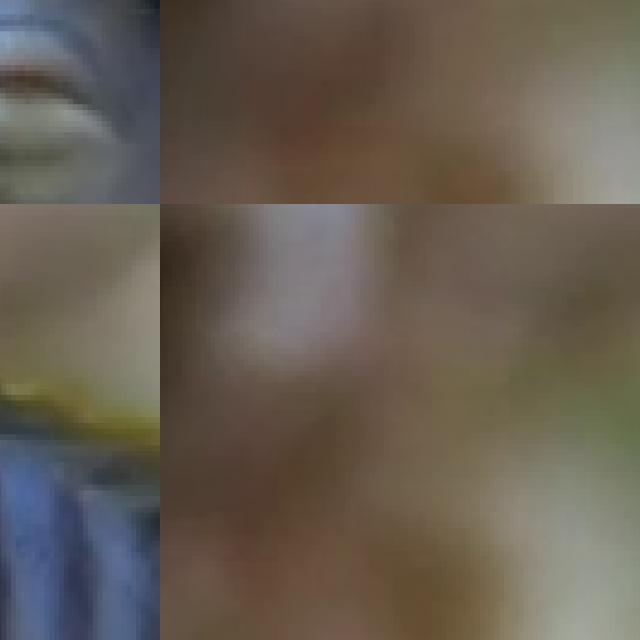fish: (0, 282, 160, 640), (0, 0, 160, 204)
